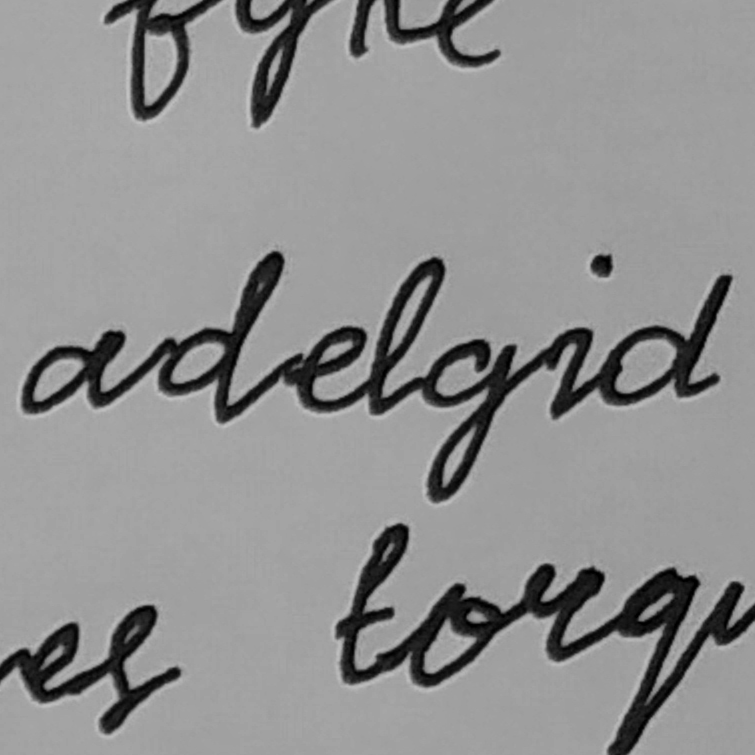a: (16, 325, 130, 419)
d: (153, 245, 286, 429), (591, 265, 739, 416)
e: (289, 318, 376, 416)
g: (417, 333, 521, 509)
i: (531, 248, 621, 422)
l: (362, 250, 449, 419)
